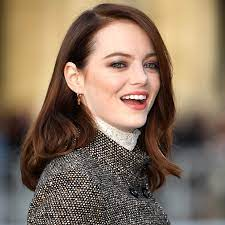n.sharp: (130, 60, 148, 88)
